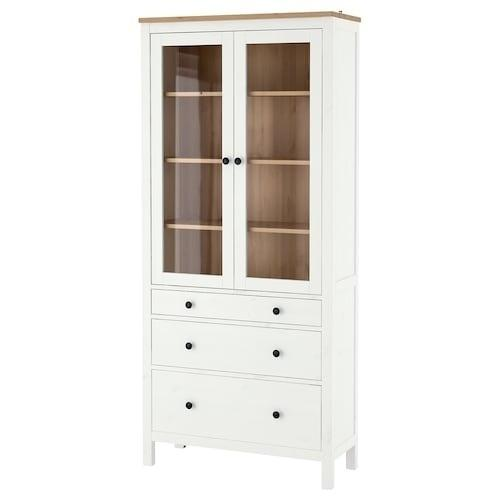cabinet_door: (238, 25, 329, 287), (157, 29, 235, 281), (154, 384, 321, 442), (154, 327, 319, 372), (153, 294, 322, 321)
handle: (271, 406, 283, 424), (271, 345, 283, 362), (184, 398, 196, 415), (185, 339, 195, 355), (221, 155, 231, 170), (235, 155, 244, 170), (272, 305, 282, 318), (184, 299, 194, 311)
